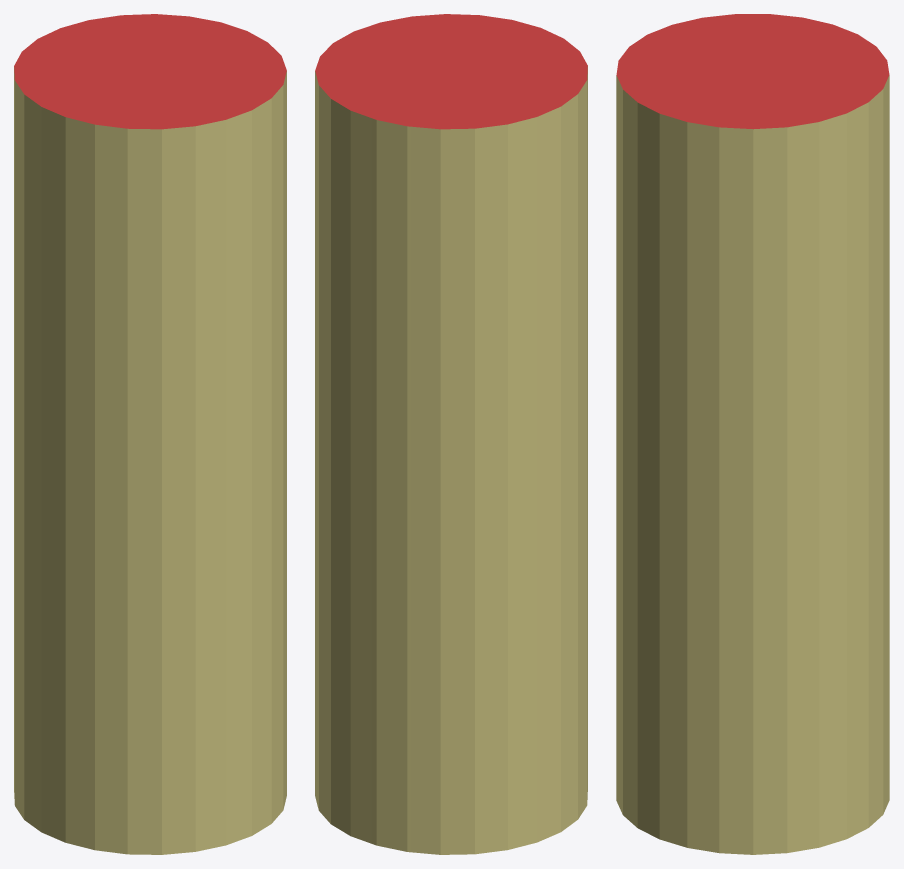
The picture shows the model from 3 angles, left to right: view 1: azimuth 30°, elevation 25°; view 2: azimuth 150°, elevation 25°; view 3: azimuth 270°, elevation 25°; orthographic projection.
Size of the model in its own units: 3.38 by 3.39 by 9.94.
